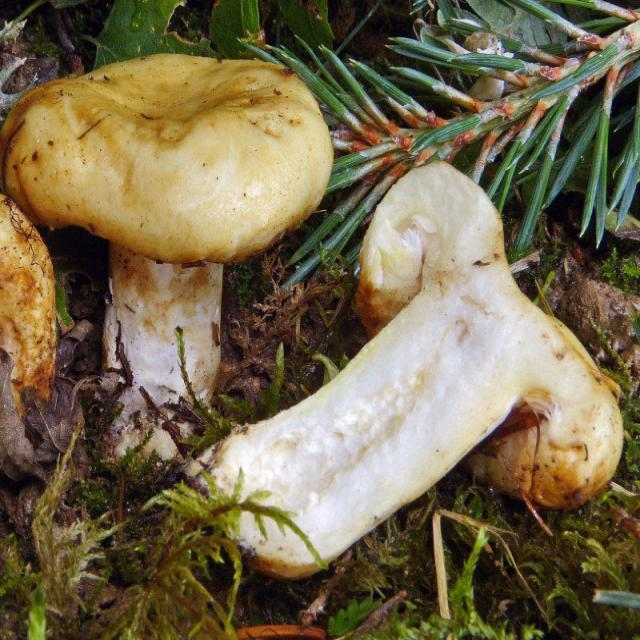Armillaria mellea: (181, 166, 623, 578), (3, 55, 333, 466)
